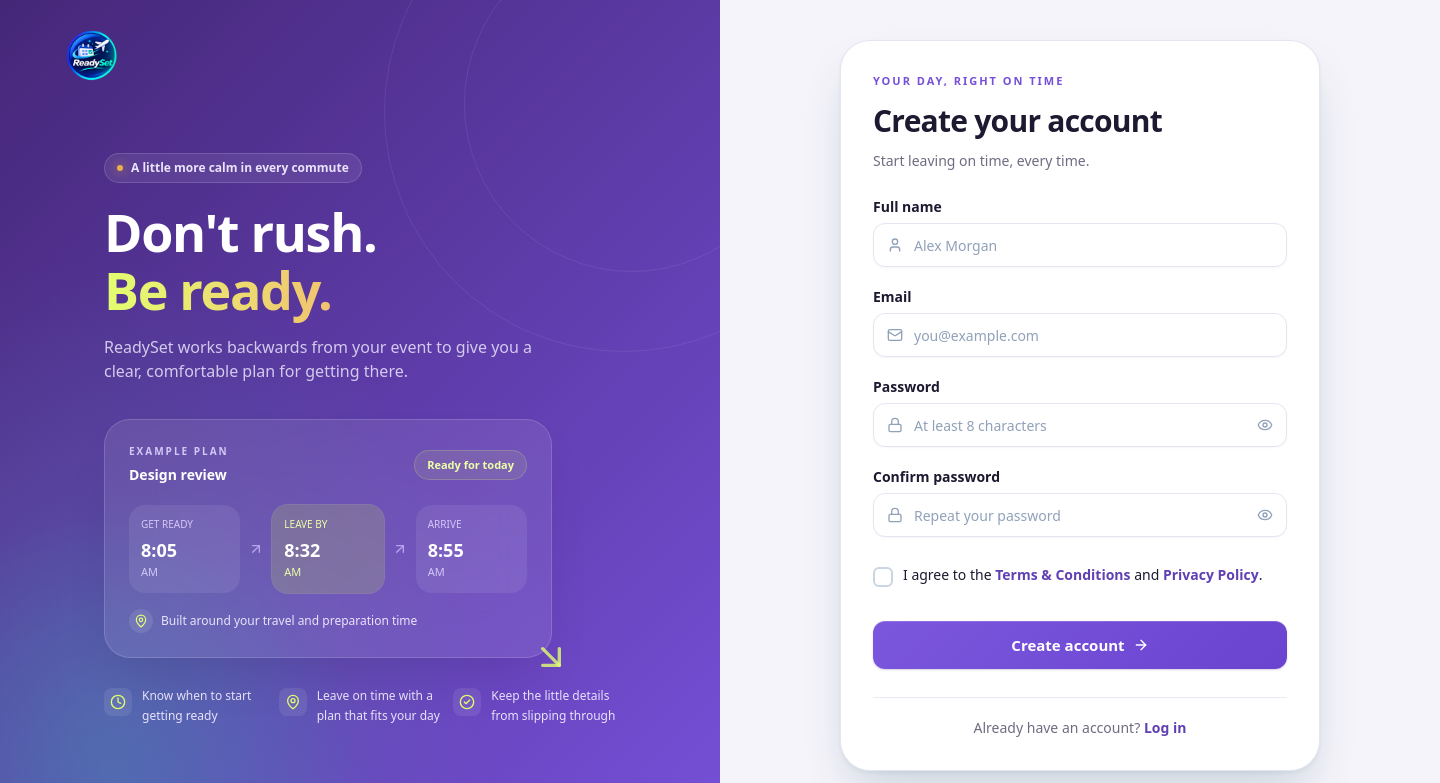
Test: register form › shows the duplicate email error from the backend under the email field
In the field labelled "Full name": point(1080, 245) [873,223,1287,267], type "Sam Rivera"
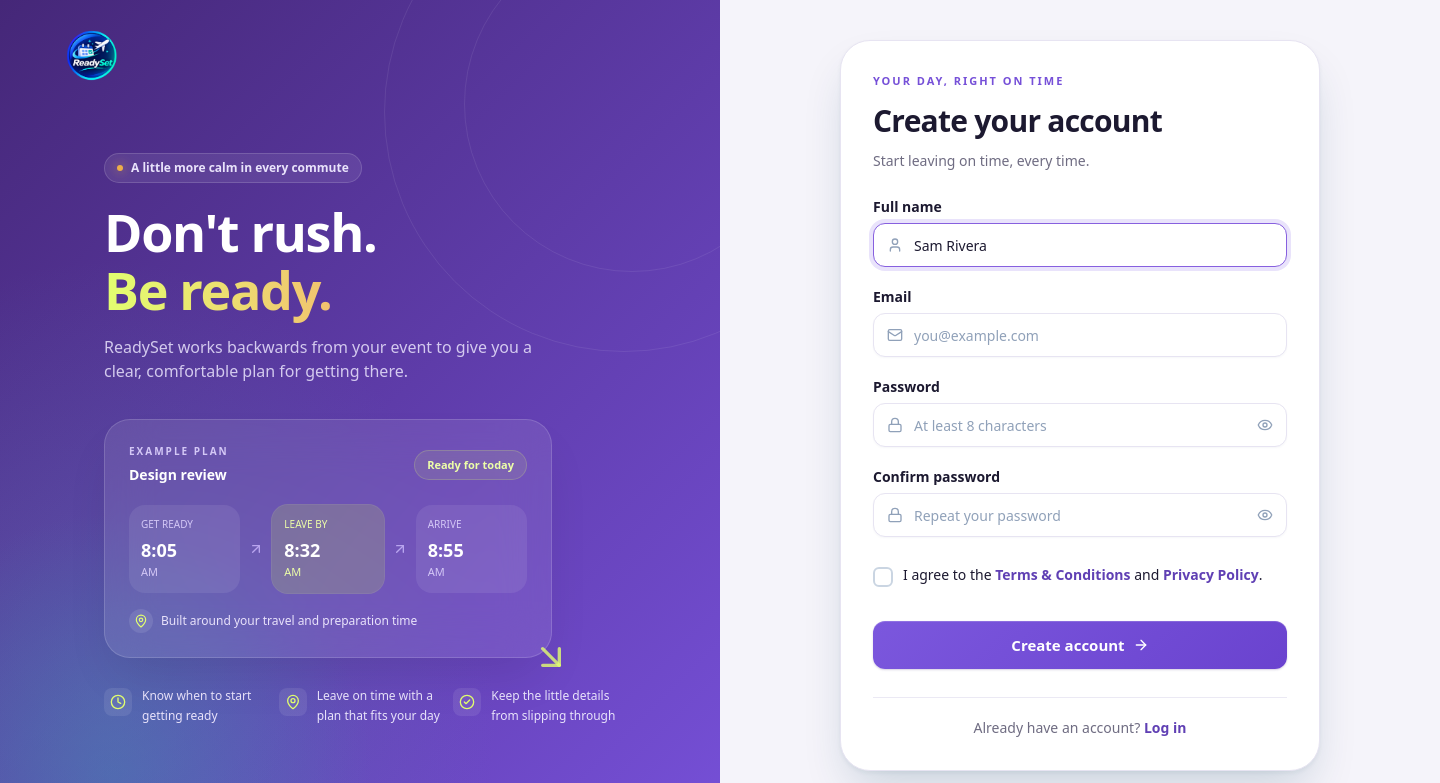
In the field labelled "Email": point(1080, 335) [873,313,1287,357], type "sam@example.com"
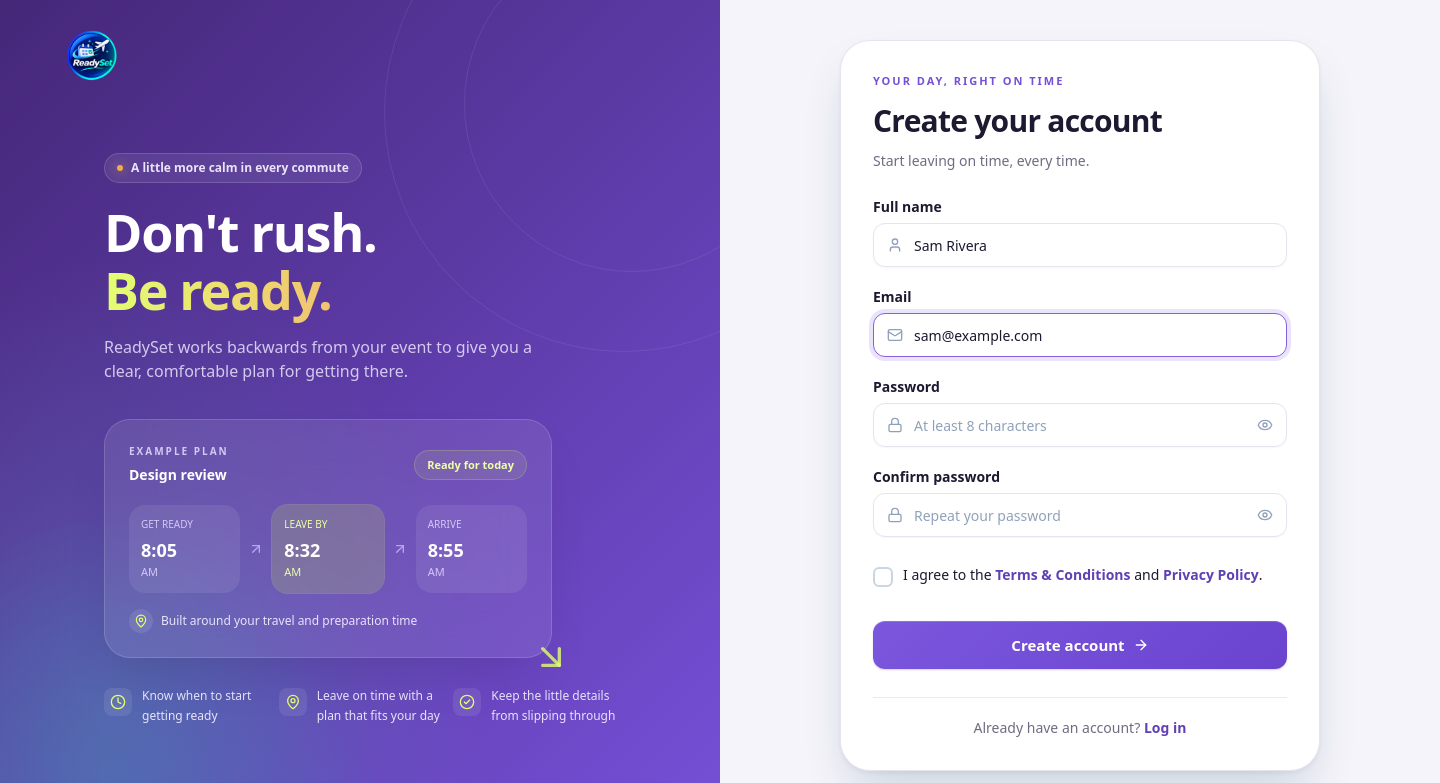
In the password field labelled "Password": point(1080, 425) [873,403,1287,447], type "Sup3rSecret!"
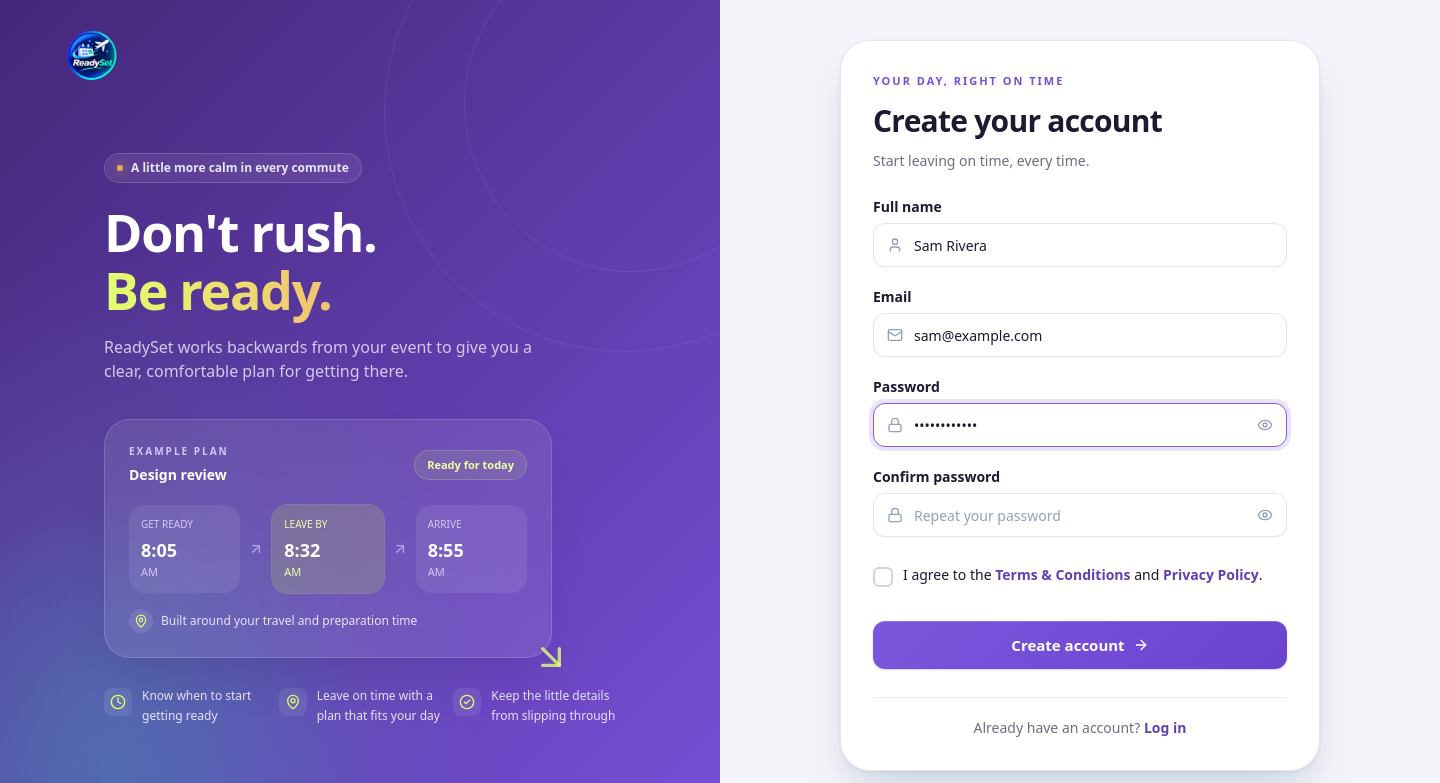
In the password field labelled "Confirm password": point(1080, 515) [873,493,1287,537], type "Sup3rSecret!"
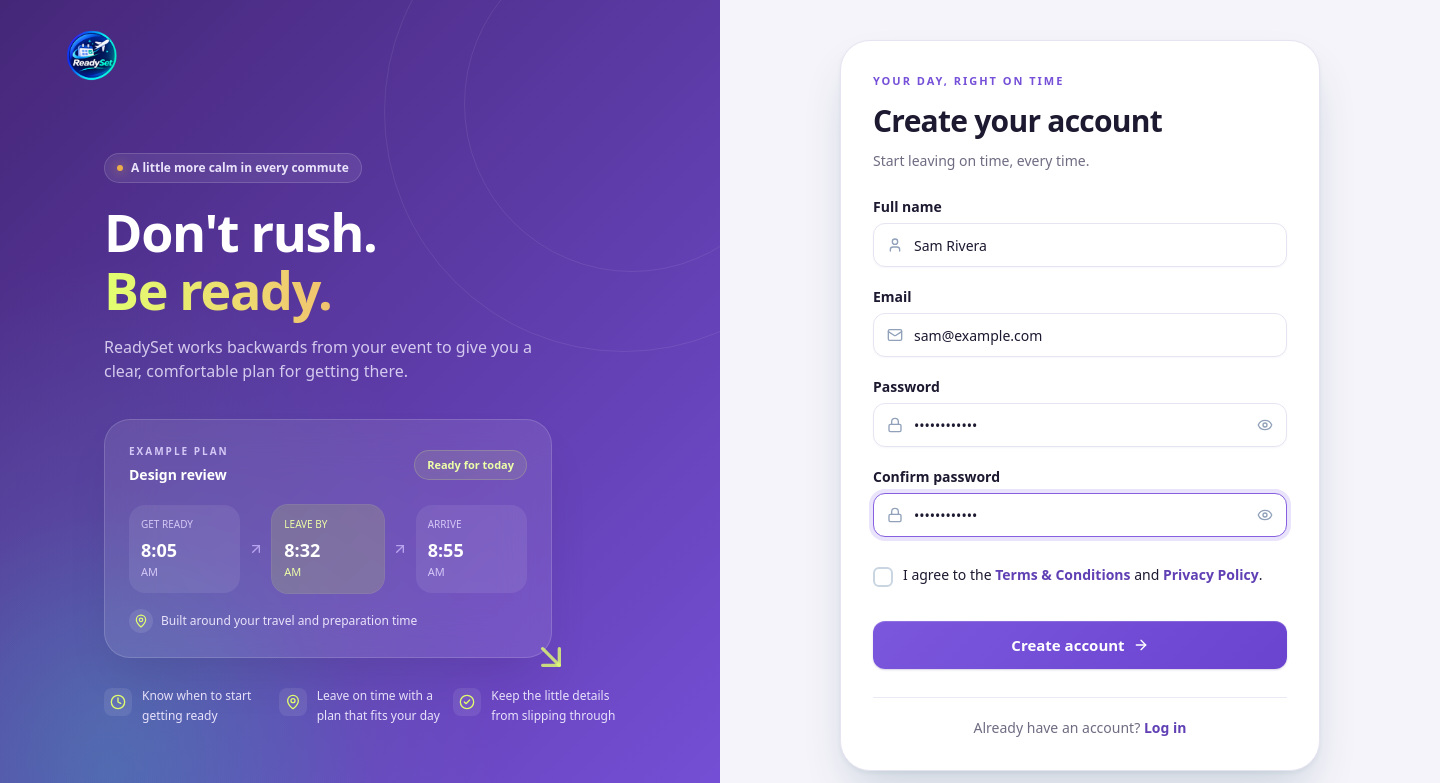
Click the checkbox: point(1068, 576) [873,565,1262,587]
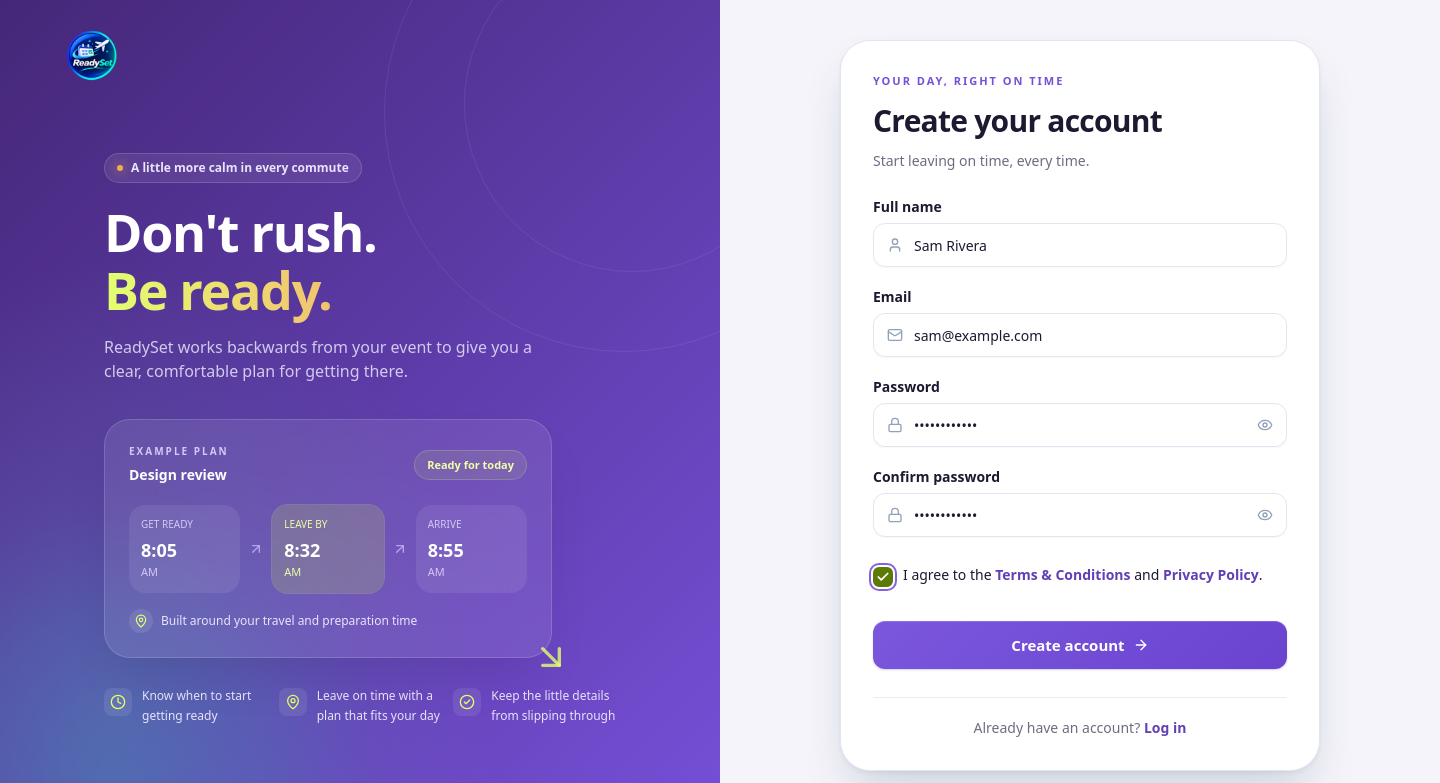
Click the button "Create account": point(1080, 645) [873,621,1287,669]
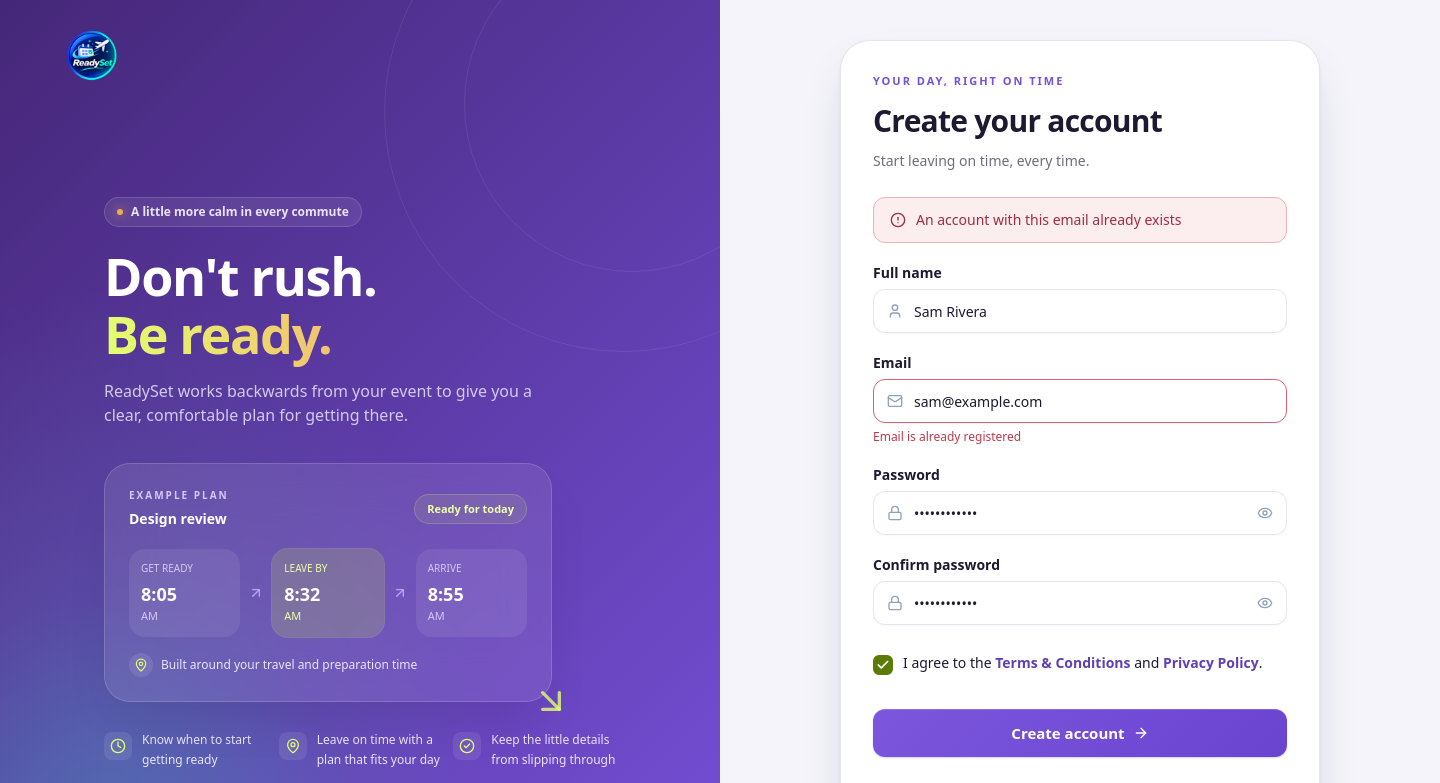
expect the text "Email is already registered" is shown: met, box [873,428,1021,445]
